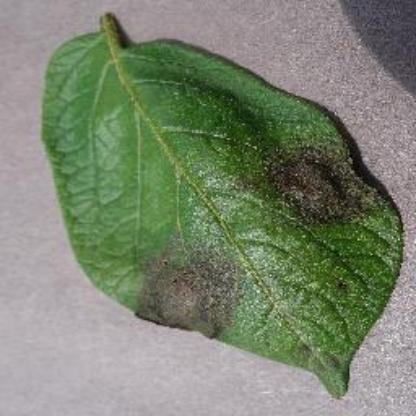Late-Blight: (41, 8, 405, 400)
